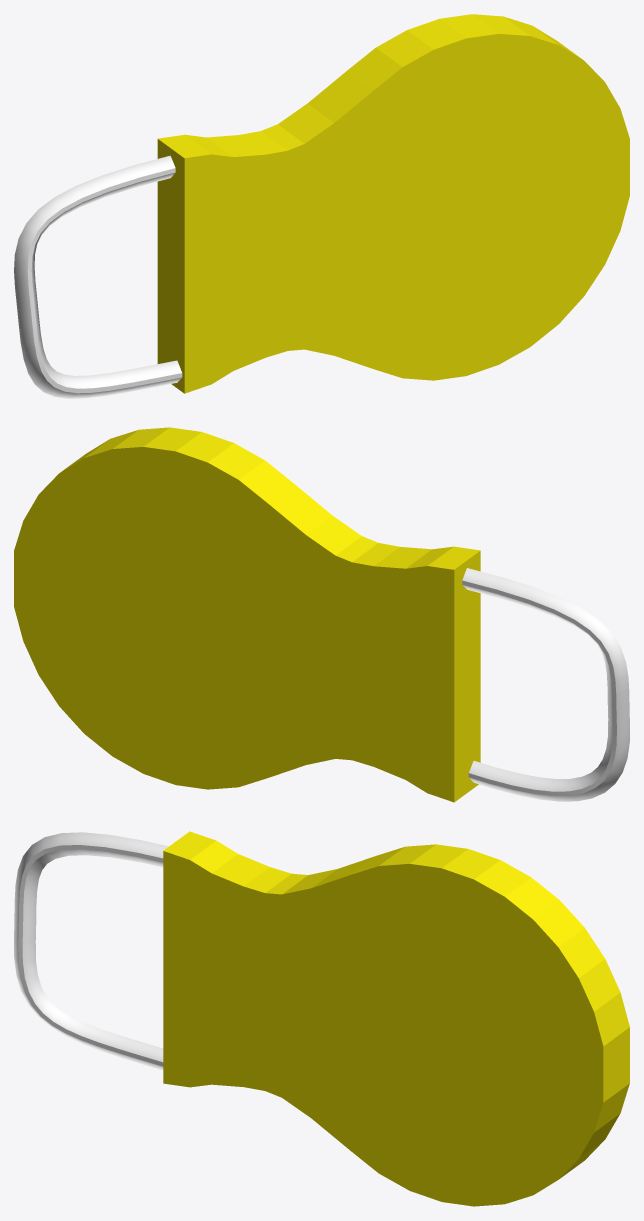
File: fish.glb
3 renders of one model, top to bottom at view 1: azimuth 30°, elevation 25°; view 2: azimuth 150°, elevation 25°; view 3: azimuth 330°, elevation 25°, orthographic.
Parts seen in each view (by area): view 1: Circle; view 2: Circle; view 3: Circle.
Boxes of the visible parts, x1,y1,x2,y2 form: Circle: (14, 14, 629, 398); Circle: (14, 427, 629, 802); Circle: (14, 831, 629, 1206).
Bounding box in the file's own units: 3.46 × 1.85 × 0.266.
1 material, 1 textured.
